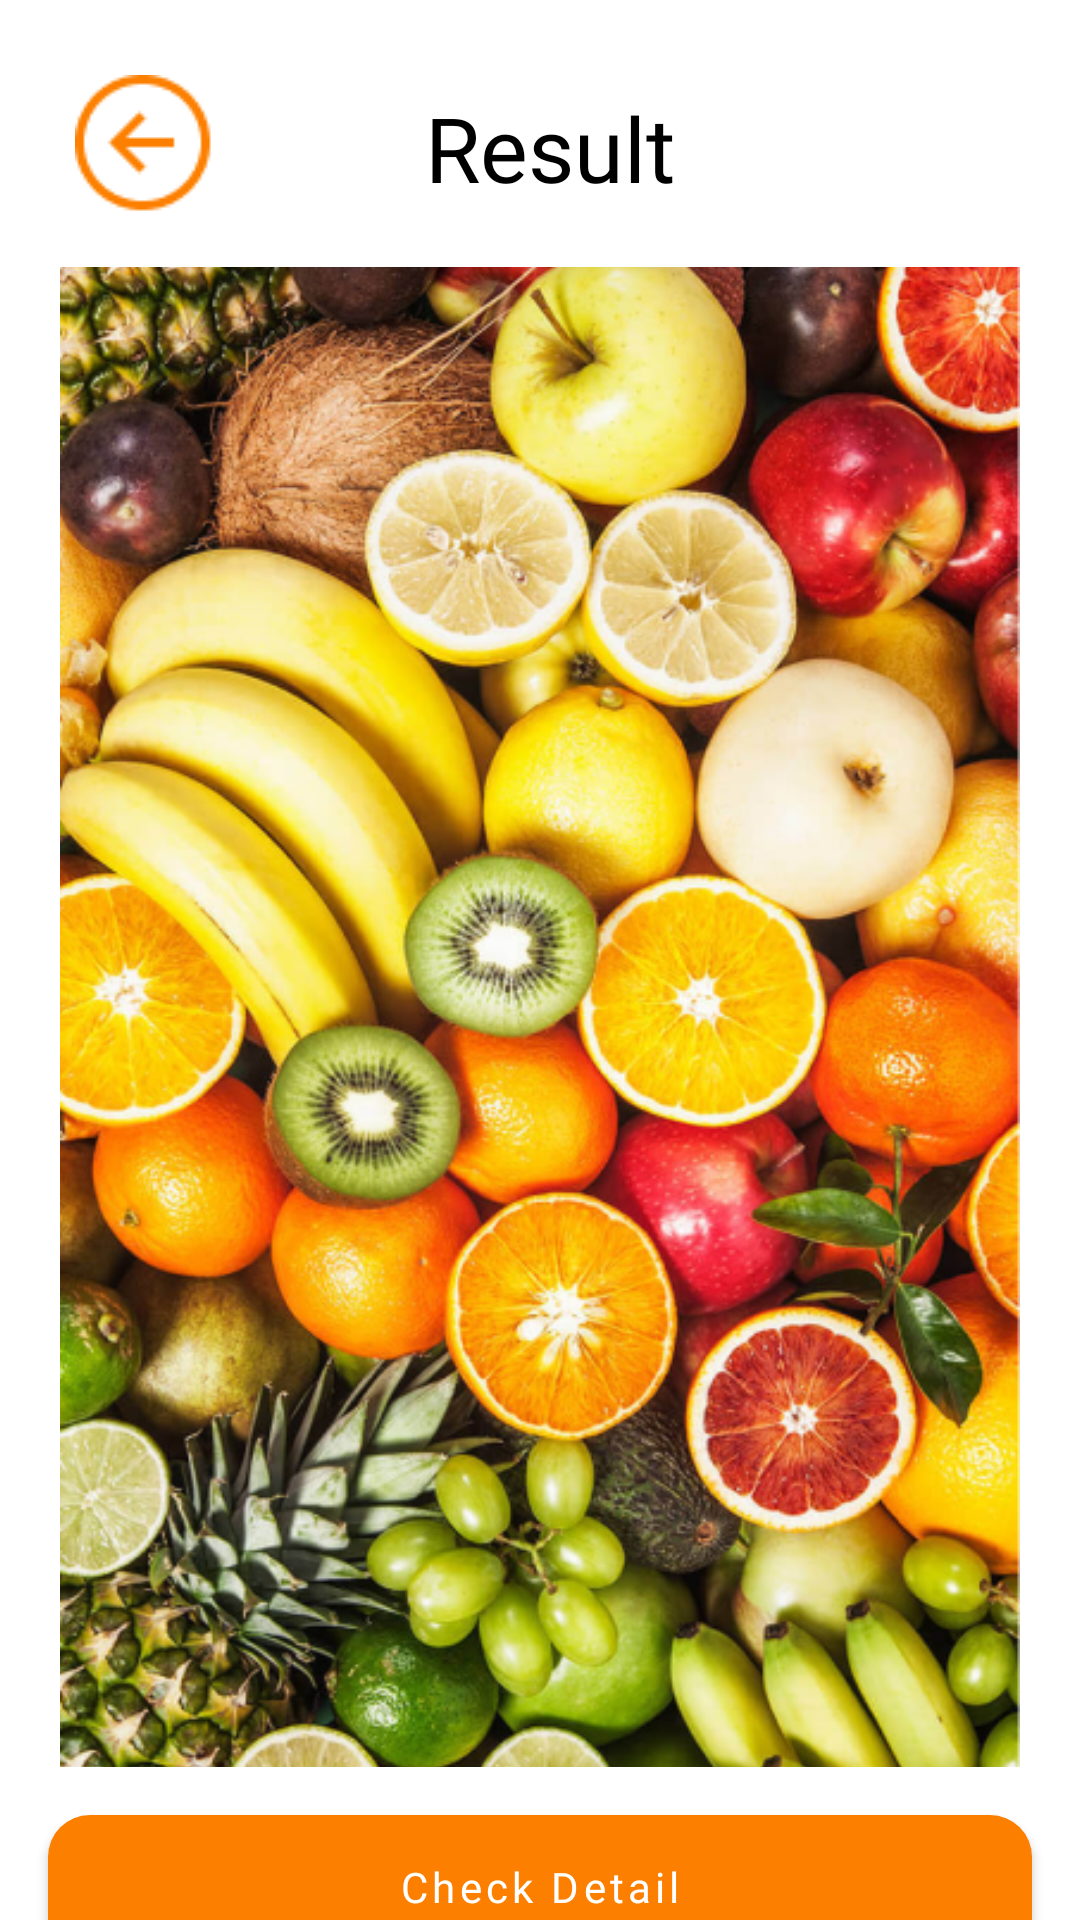

Point at icon controls on the screen. Image size 1080px x 1920px, points as (x,y).
Back: (143,143)
